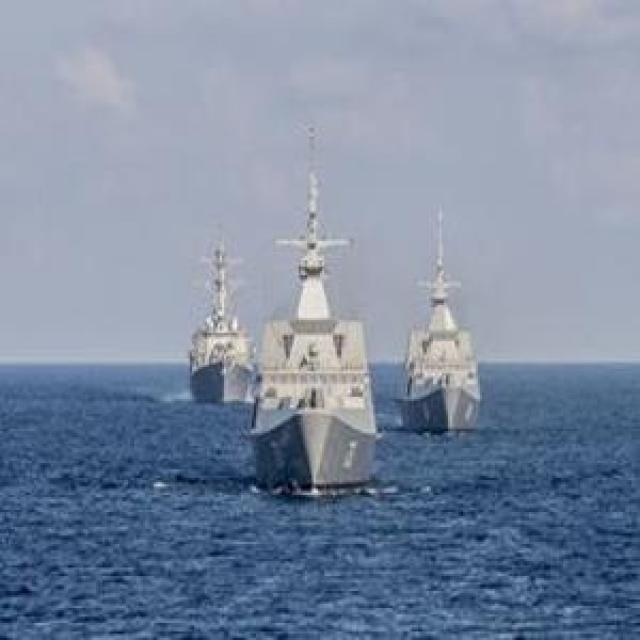navalvessels: (251, 156, 389, 484), (392, 223, 488, 440), (192, 235, 254, 422)
